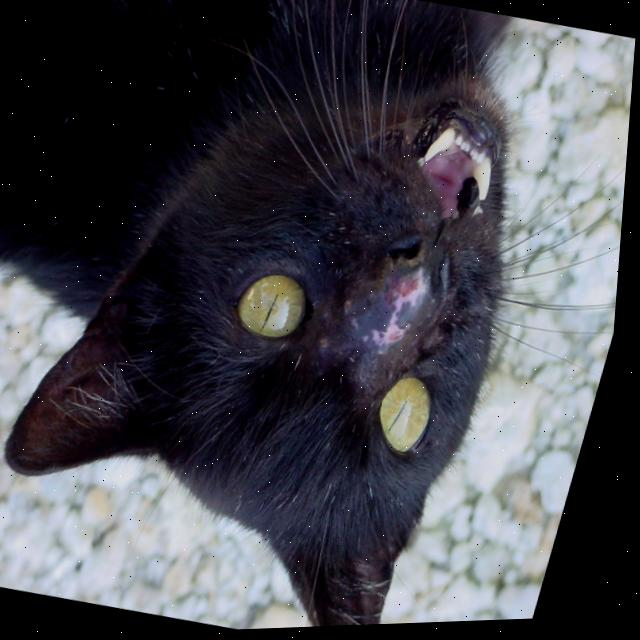Bombay: (0, 0, 591, 640)
